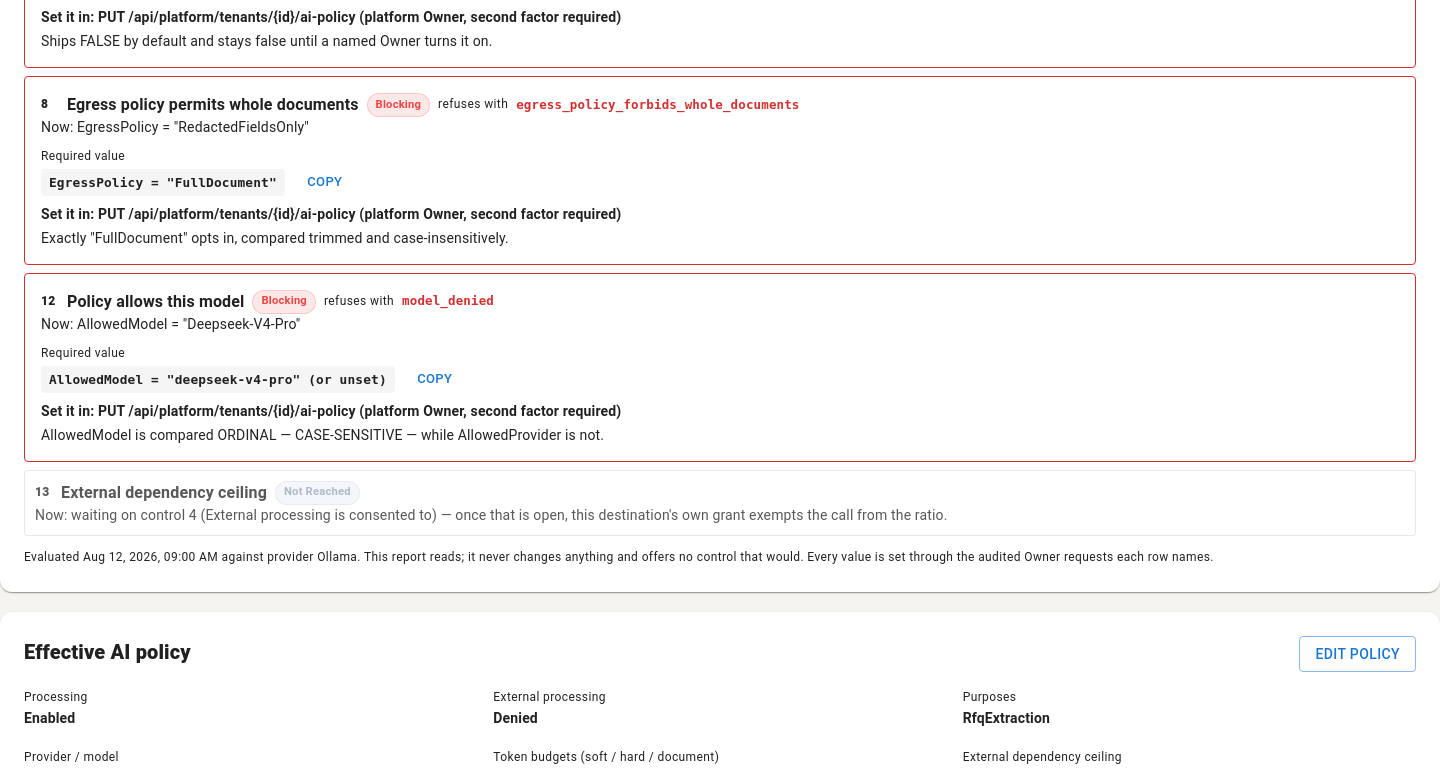
it: extraction pre-flight › offers copy rather than retyping for the case-sensitive model comparison
The image size is (1440, 771).
(page scrolled)
Expected: the text "CASE-SENSITIVE" is shown, [41,427,604,443]
Click the button "Copy" below "Policy allows this model": x=435, y=379 [403,364,467,395]
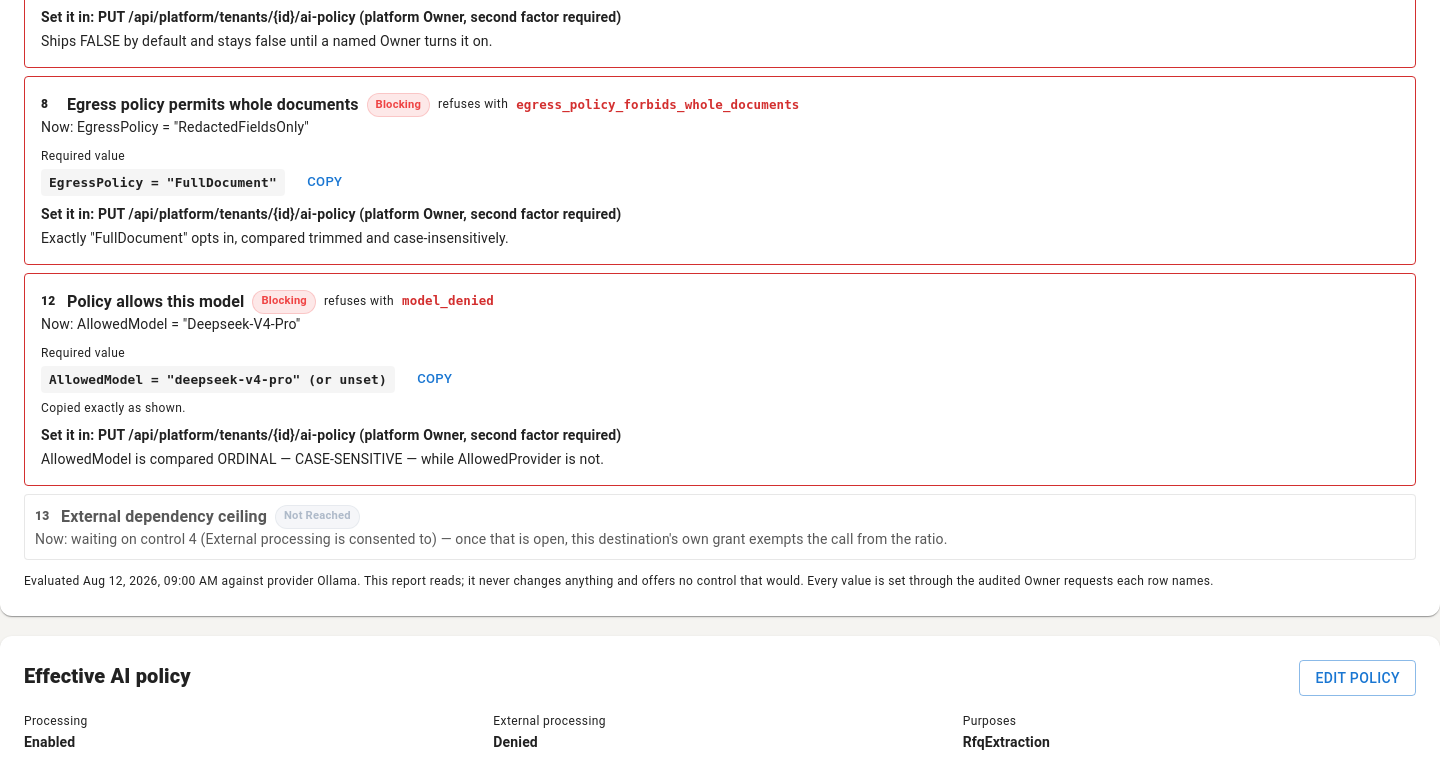
Now the text "Copied exactly as shown." is shown, box [41,401,186,415]
